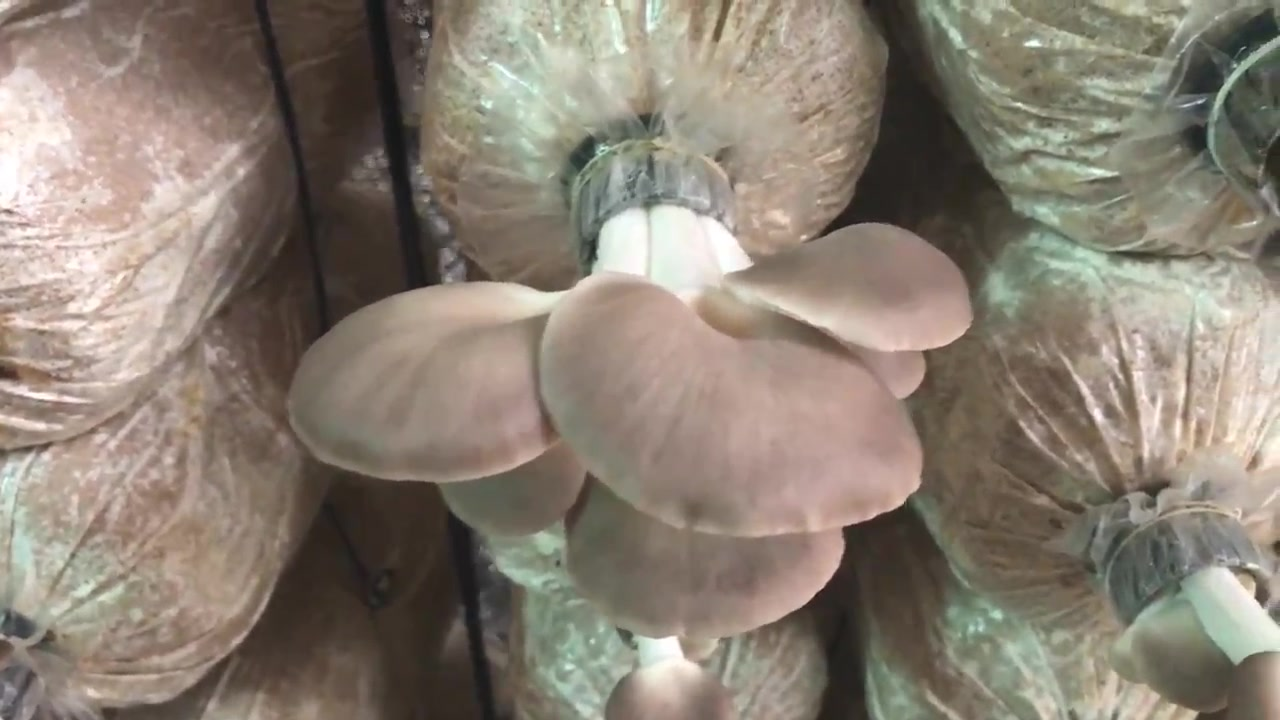nam: (293, 143, 967, 639), (1110, 508, 1280, 720), (606, 632, 735, 720)
